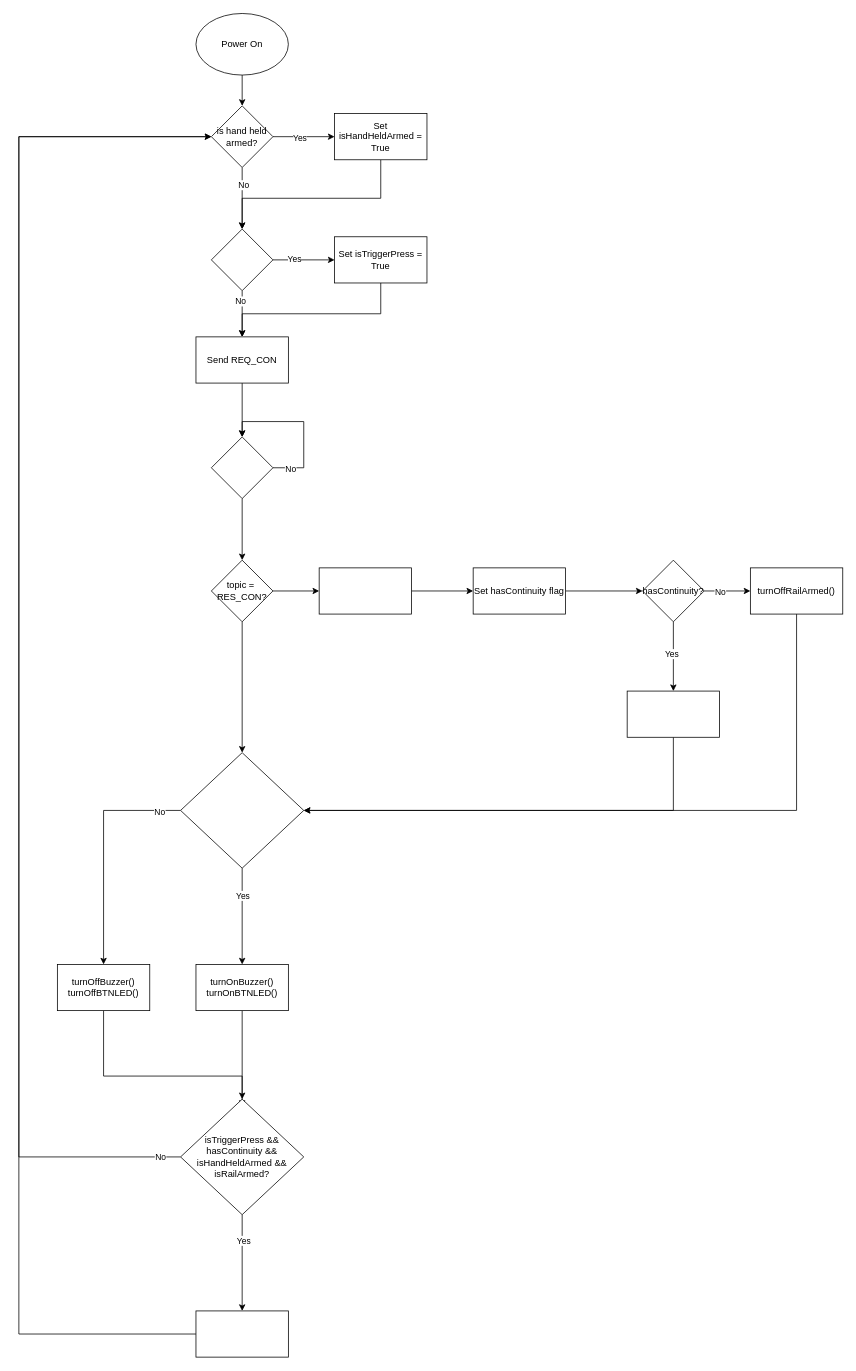
Image size: 856x1371. Some labels were removed from this diagram. Here are the shapes that lost their labels. From the top down, the box of each, then its label:
(211, 228, 273, 291): is big red BTN pressed?
(211, 436, 273, 499): Has received response?
(318, 567, 412, 614): Set isRailArmed flag
(626, 690, 720, 737): turnOnRailArmed()
(180, 752, 304, 868): hasContinuity && isHandHeldArmed?
(195, 1310, 288, 1357): REQ_TRI
